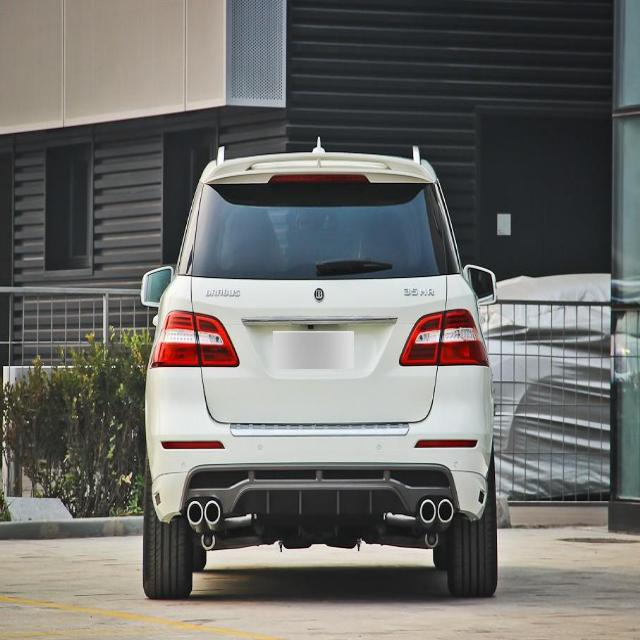back_glass: (190, 177, 449, 282)
back_left_side_light: (149, 310, 241, 369)
back_right_side_light: (397, 308, 490, 368)
front_left_side_mirror: (140, 262, 176, 308)
front_right_side_mirror: (462, 262, 498, 306)
rear_bumper: (143, 363, 498, 527)
wheel: (446, 447, 497, 601), (143, 467, 193, 602)
